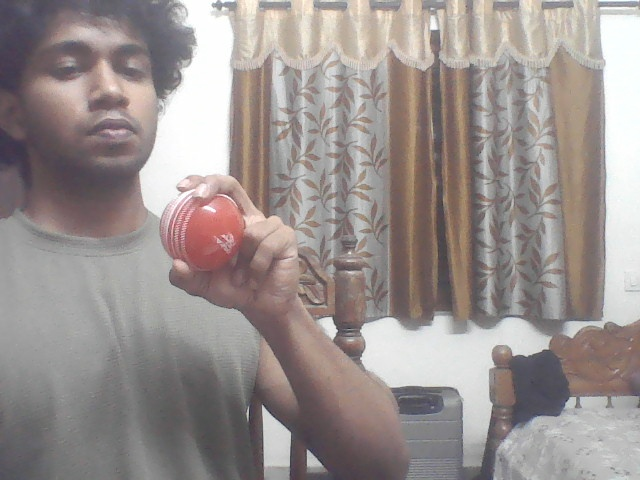cricket_ball: (156, 190, 247, 274)
